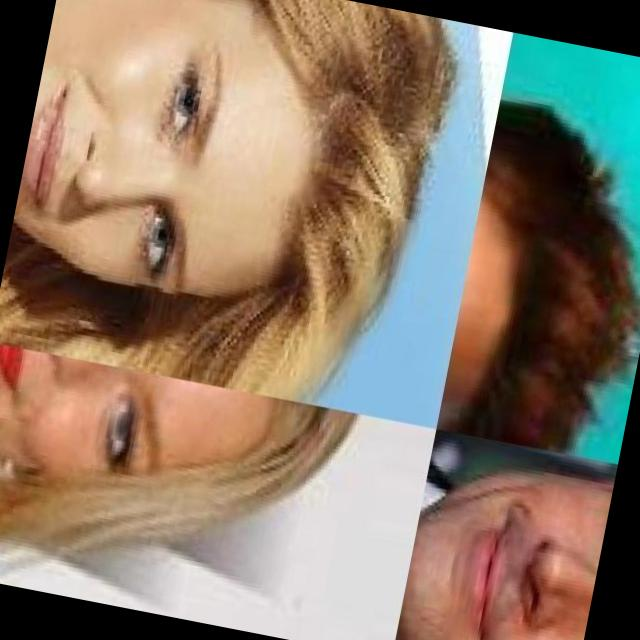bareface: (0, 0, 433, 369)
